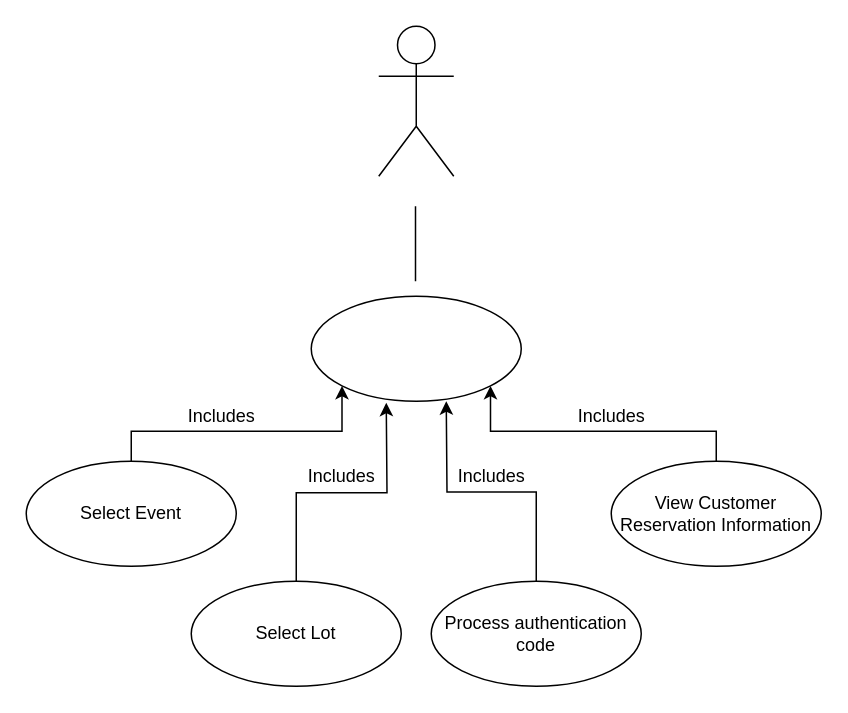
Image size: 848x713. Some labels were removed from this diagram. The shapes that lost their labels are listed below. From the top down, each one's centre as x and y in pixels, then its label:
[415,100]: Parking Attendant
[415,348]: Check in Customers
